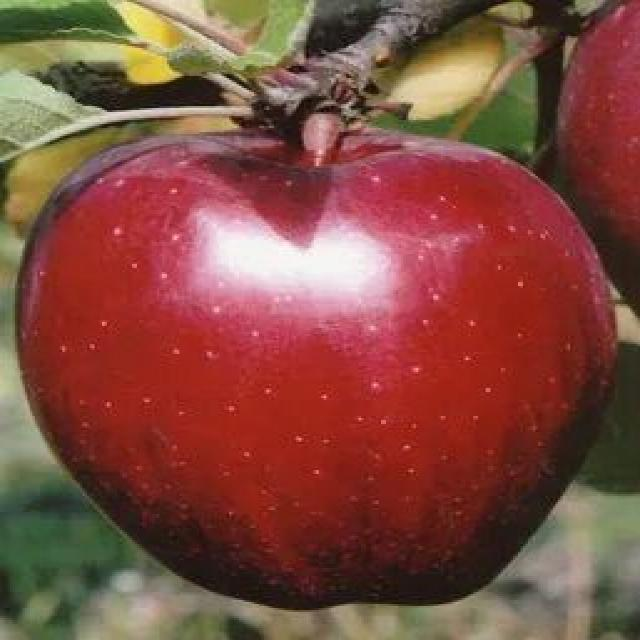Fresh Apple: (20, 134, 612, 624)
